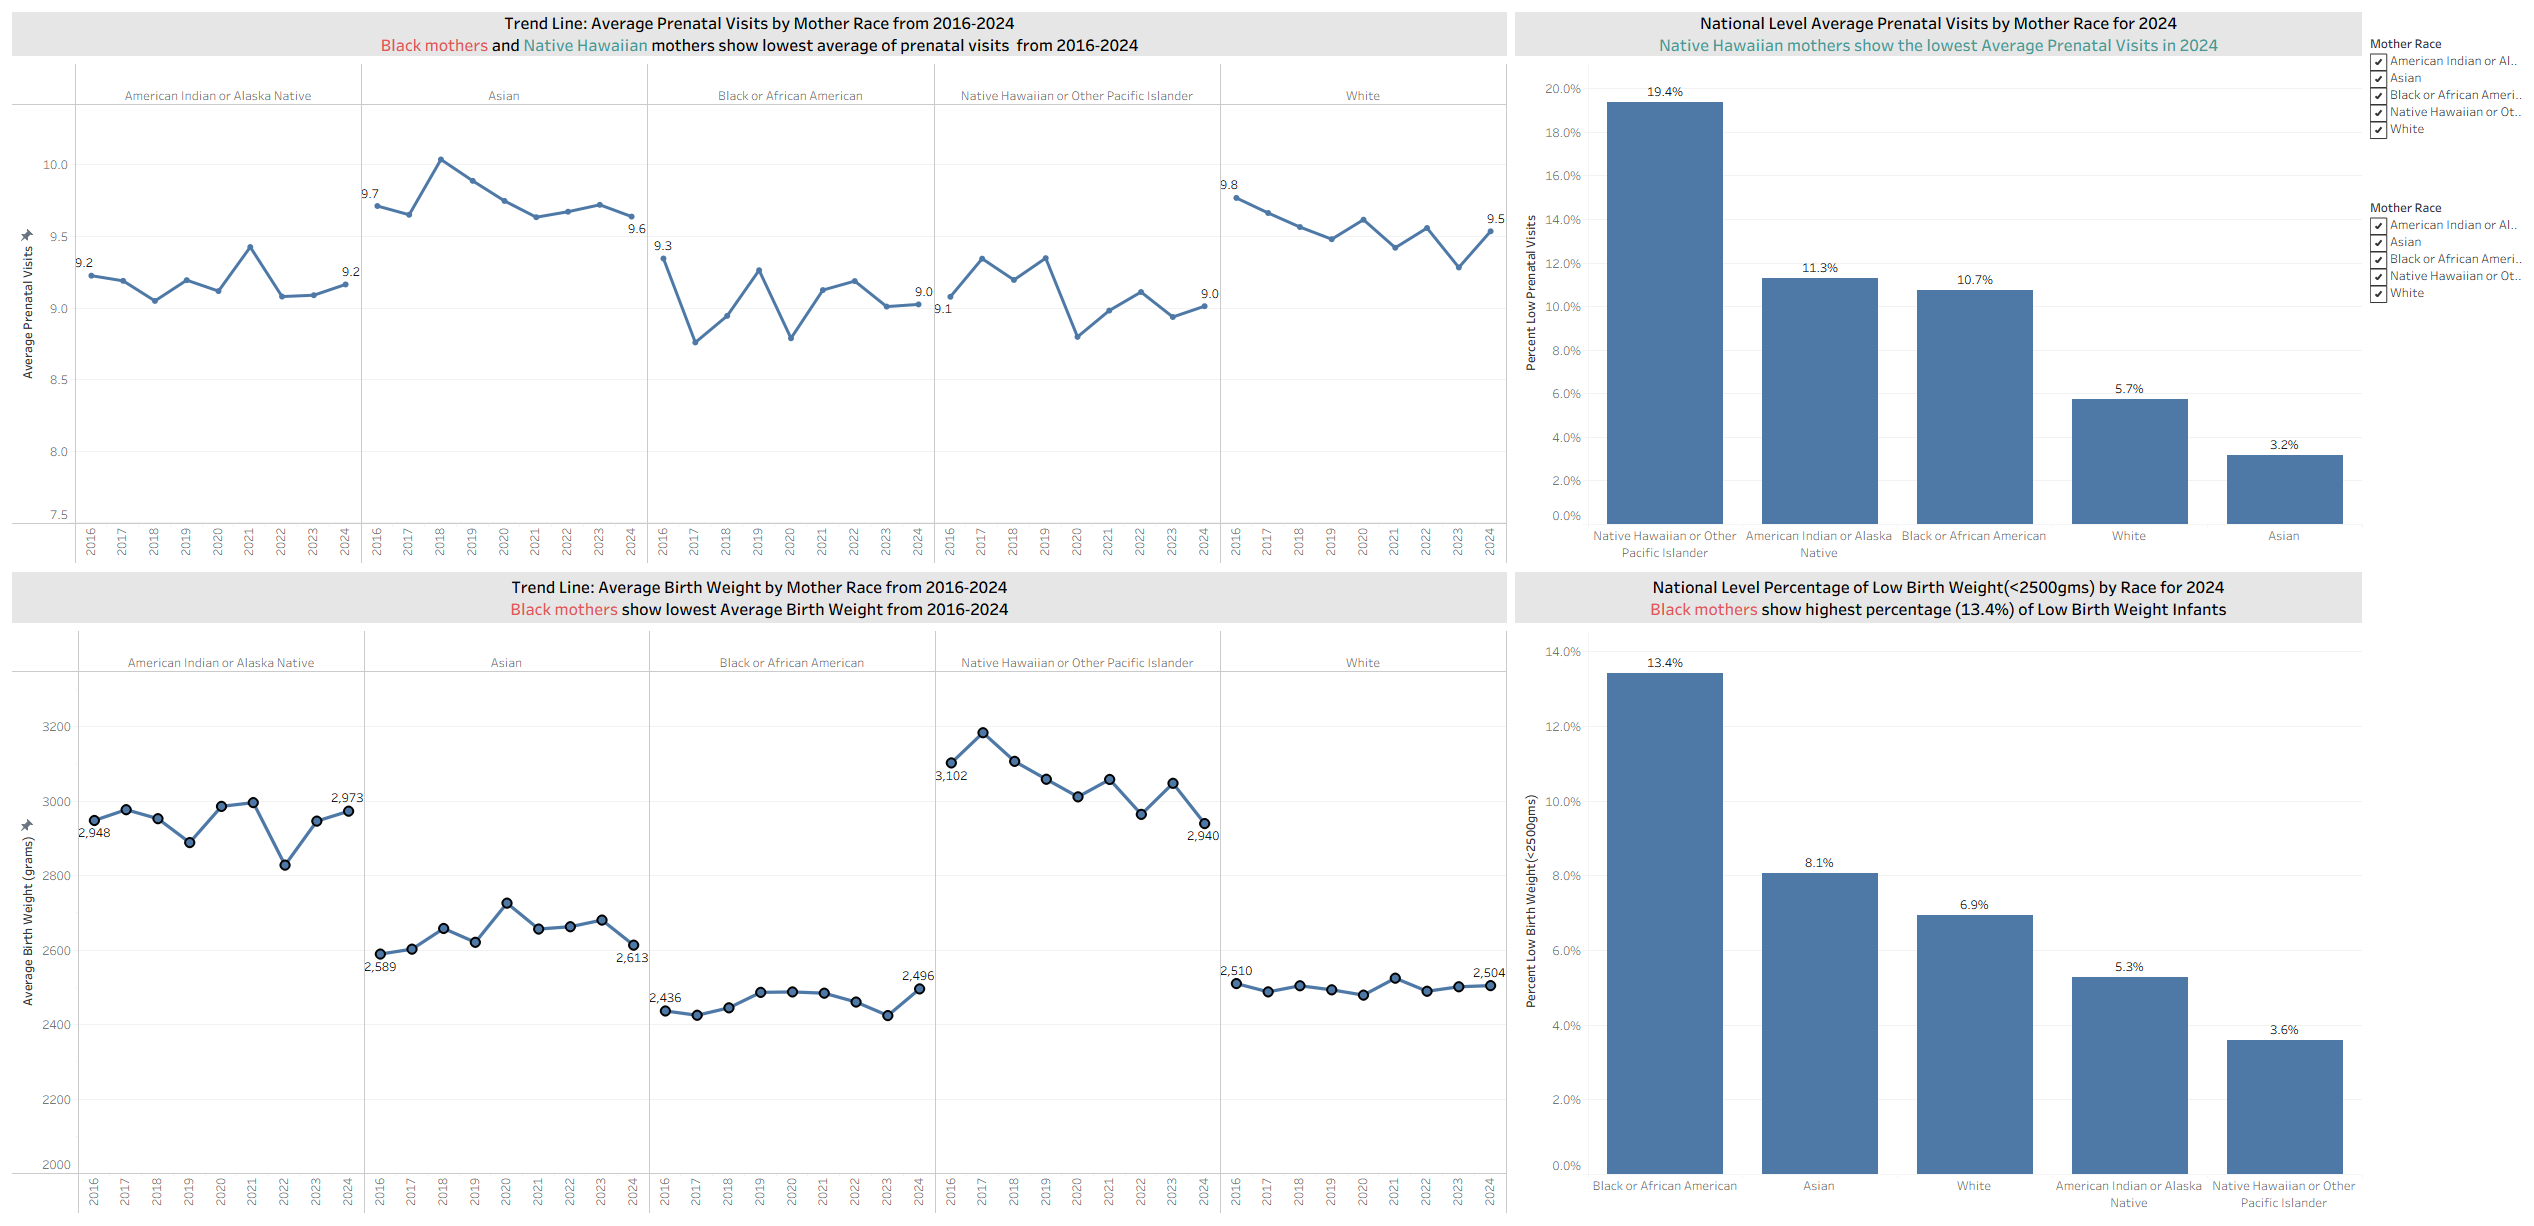

This screenshot's page, from the dashboard's own definition file:
{"tool":"tableau","page":{"name":"Dashboard A","canvas":[1000,1000],"units":"permille","ordinal":0},"visuals":[{"type":"text","box":[3.2,6.4,592.9,42.7]},{"type":"text","box":[596.1,6.4,337.6,42.7]},{"type":"legend","title":"A. Line Chart: Average Prenatal Visits by Mother's Race (2016-2024)","param":"[federated.1bwjlr304kl8se11us8uf0kukyk0].[none:Mother_Race:nk]","box":[933.7,6.4,63.1,17.7]},{"type":"filter","title":"C. Percentage of Low Prenatal Visits by Race 2024","param":"[federated.0kz7ppy1cwwv6d195y19z09n9wko].[none:Mother_Race:nk]","box":[933.7,24.1,63.1,131.8]},{"type":"worksheet","title":"A. Line Chart: Average Prenatal Visits by Mother's Race (2016-2024)","mark":"Line","rows":["Avg_Prenatal_Visits"],"cols":["Mother_Race","Year Code"],"box":[3.2,49.2,592.9,414.4]},{"type":"worksheet","title":"C. Percentage of Low Prenatal Visits by Race 2024","mark":"Automatic","rows":["Calculation_-7960675279982387188"],"cols":["Mother_Race"],"box":[596.1,49.2,337.6,414.4]},{"type":"filter","title":"D. Percentage of Low Birth Weight by Race 2024","param":"[federated.0kz7ppy1cwwv6d195y19z09n9wko].[none:Mother_Race:nk]","box":[933.7,155.9,63.1,131.8]},{"type":"text","box":[3.2,463.6,592.9,47.7]},{"type":"text","box":[596.1,463.6,337.6,47.7]},{"type":"worksheet","title":"B. Line Chart: Average Birth Weight by Mother's Race (2016-2024)","mark":"Line","rows":["Average Birth Weight (grams)"],"cols":["Mother_Race","Year Code"],"box":[3.2,511.2,592.9,482.4]},{"type":"worksheet","title":"D. Percentage of Low Birth Weight by Race 2024","mark":"Automatic","rows":["Calculation_-7960675280006299638"],"cols":["Mother_Race"],"box":[596.1,511.2,337.6,482.4]}]}

Visuals, with their boxes on the dashboard's canvas, which has no fixed pixel size, in thousandths of its width and height (x1, y1, x2, y2). These are canvas units, not pixel positions in the 2534x1226 screenshot, which may show the page scaled, cropped or inside an application window:
text: x1=3 y1=6 x2=596 y2=49
text: x1=596 y1=6 x2=934 y2=49
"A. Line Chart: Average Prenatal Visits by Mother's Race (2016-2024)" legend: x1=934 y1=6 x2=997 y2=24
"C. Percentage of Low Prenatal Visits by Race 2024" filter: x1=934 y1=24 x2=997 y2=156
"A. Line Chart: Average Prenatal Visits by Mother's Race (2016-2024)" worksheet (Line marks): x1=3 y1=49 x2=596 y2=464
"C. Percentage of Low Prenatal Visits by Race 2024" worksheet: x1=596 y1=49 x2=934 y2=464
"D. Percentage of Low Birth Weight by Race 2024" filter: x1=934 y1=156 x2=997 y2=288
text: x1=3 y1=464 x2=596 y2=511
text: x1=596 y1=464 x2=934 y2=511
"B. Line Chart: Average Birth Weight by Mother's Race (2016-2024)" worksheet (Line marks): x1=3 y1=511 x2=596 y2=994
"D. Percentage of Low Birth Weight by Race 2024" worksheet: x1=596 y1=511 x2=934 y2=994
